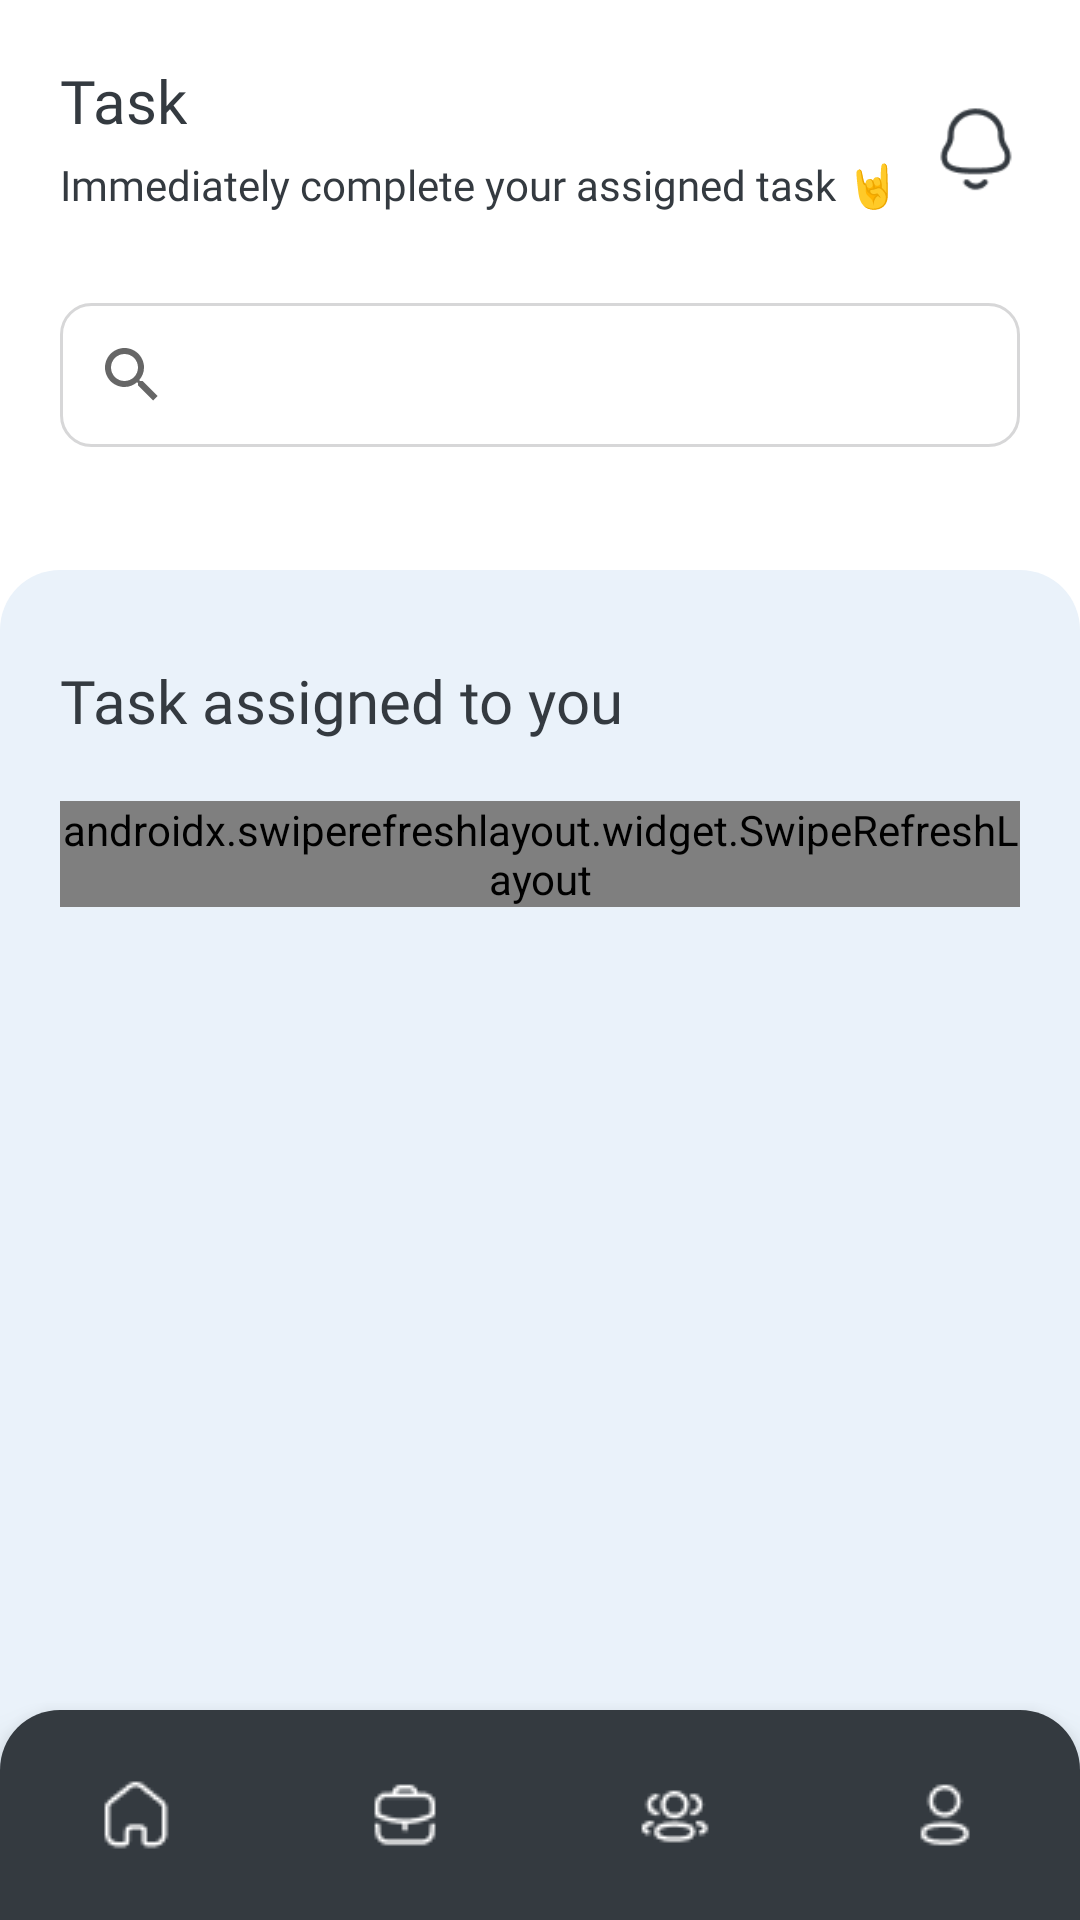

Screen size 1080×1920. Icon name, then its center in pixels as point (x, y):
notification: point (976, 149)
